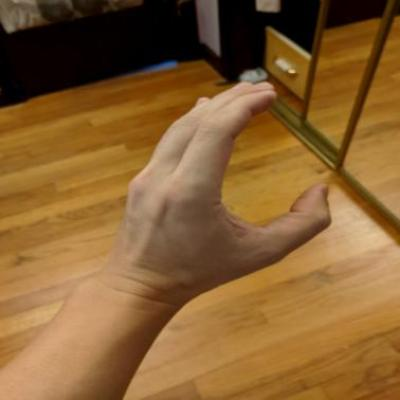hand: (88, 74, 344, 306)
